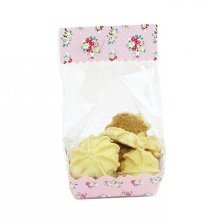snack: (50, 15, 176, 202)
